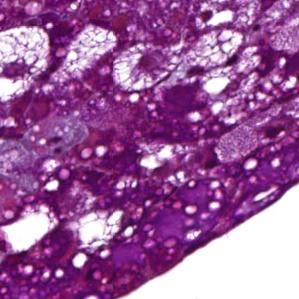ballooning: (110, 42, 175, 93), (184, 26, 245, 73)
